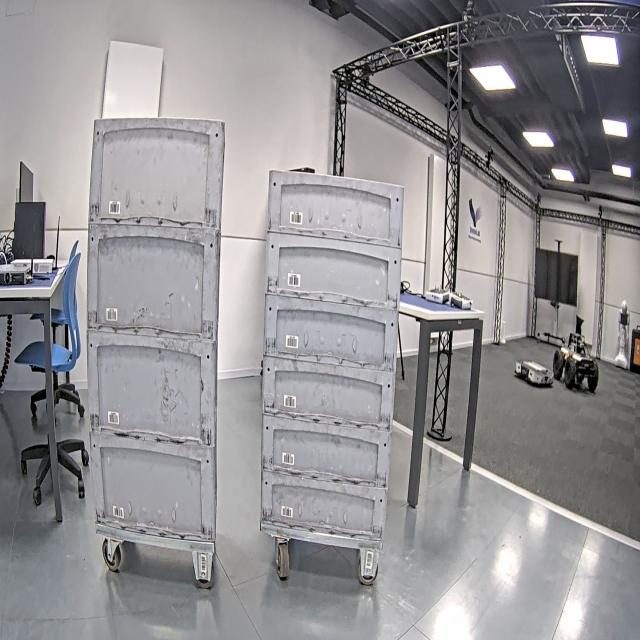Box3G: (268, 171, 406, 253), (267, 232, 403, 313), (259, 406, 390, 489), (262, 354, 394, 436), (264, 294, 399, 372), (261, 468, 388, 547)
Box4G: (88, 327, 216, 448), (88, 226, 219, 343), (88, 431, 218, 546), (92, 120, 221, 229)
